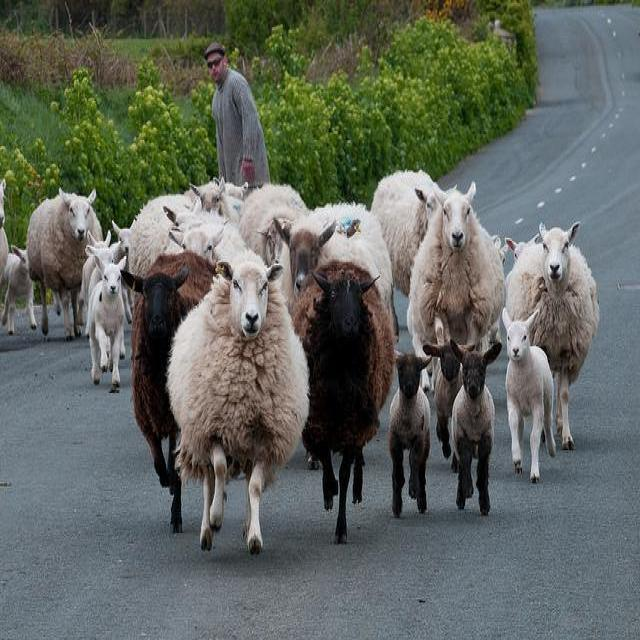Sheep: (0, 176, 582, 536), (169, 249, 312, 554), (291, 262, 392, 544), (509, 212, 602, 453), (274, 202, 400, 348), (441, 178, 518, 354), (28, 187, 104, 342), (449, 336, 504, 518), (504, 304, 559, 485), (371, 170, 446, 298), (386, 345, 432, 521), (242, 178, 309, 265), (129, 196, 195, 274), (89, 256, 126, 386), (423, 342, 463, 458)
